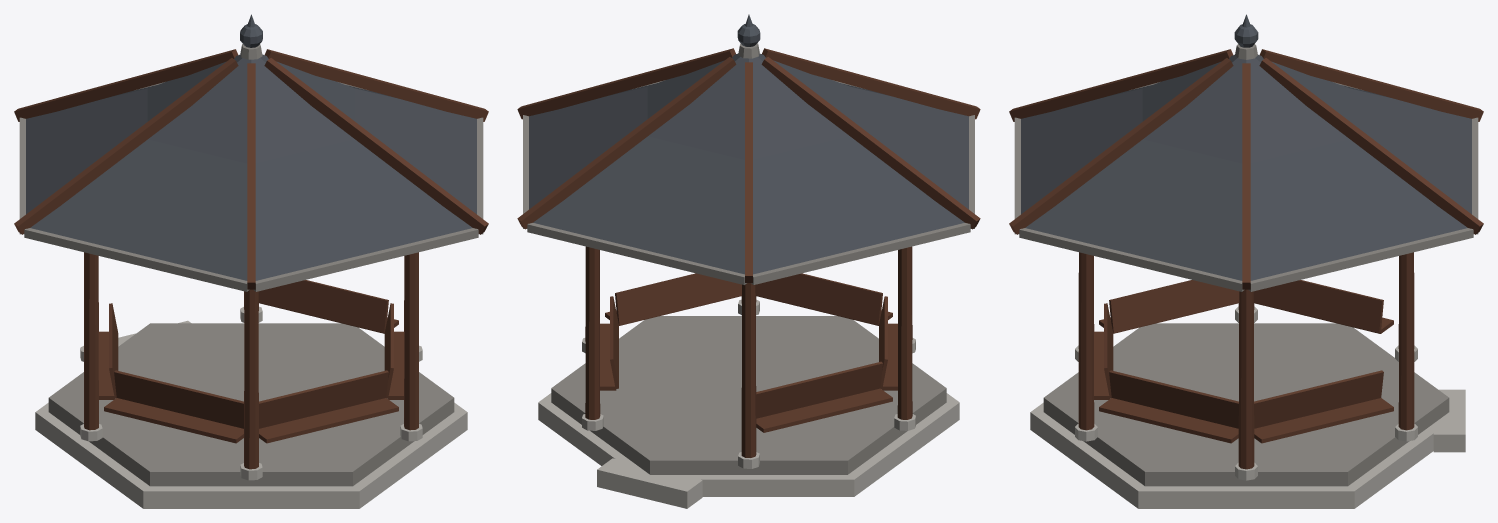
Rendered from park_pavilion.glb.
3 renders of one model, left to right at view 1: azimuth 30°, elevation 25°; view 2: azimuth 150°, elevation 25°; view 3: azimuth 270°, elevation 25°, orthographic. The views are drawn at different scales.
Visible parts, largest first — view 1: Pavilion_Roof, Pavilion_Timber, Pavilion_StoneDark, Pavilion_Stone; view 2: Pavilion_Roof, Pavilion_StoneDark, Pavilion_Timber, Pavilion_Stone; view 3: Pavilion_Roof, Pavilion_Timber, Pavilion_StoneDark, Pavilion_Stone.
Part boxes in pixels (left/top/right/bottom): Pavilion_Roof: left=26, top=54, right=476, bottom=280; Pavilion_Timber: left=14, top=49, right=488, bottom=469; Pavilion_StoneDark: left=19, top=44, right=483, bottom=486; Pavilion_Stone: left=35, top=306, right=467, bottom=508; Pavilion_Roof: left=529, top=53, right=968, bottom=274; Pavilion_StoneDark: left=523, top=43, right=974, bottom=474; Pavilion_Timber: left=517, top=48, right=980, bottom=457; Pavilion_Stone: left=538, top=299, right=959, bottom=508; Pavilion_Roof: left=1021, top=54, right=1471, bottom=280; Pavilion_Timber: left=1009, top=49, right=1483, bottom=469; Pavilion_StoneDark: left=1014, top=44, right=1478, bottom=486; Pavilion_Stone: left=1030, top=306, right=1465, bottom=508.
Size of the model in its own units: 0.6115 by 0.516 by 0.534.
